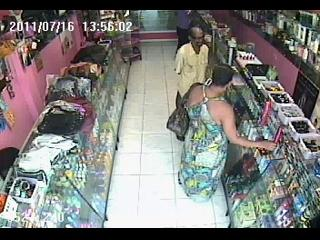Normal: (177, 64, 278, 203), (175, 27, 212, 100), (166, 90, 190, 140)
